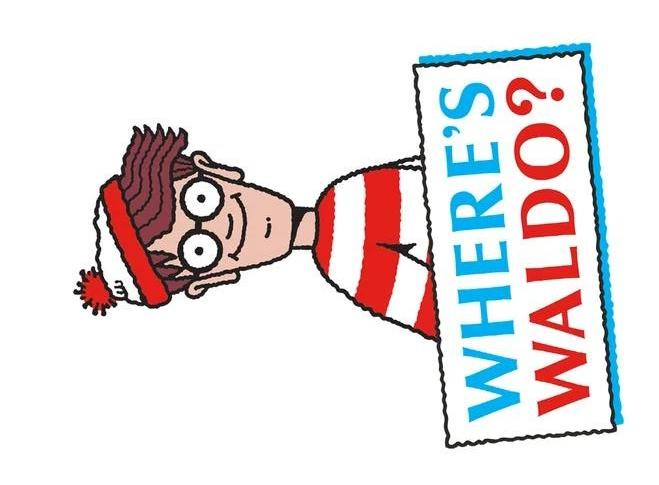waldos: (73, 124, 440, 343)
